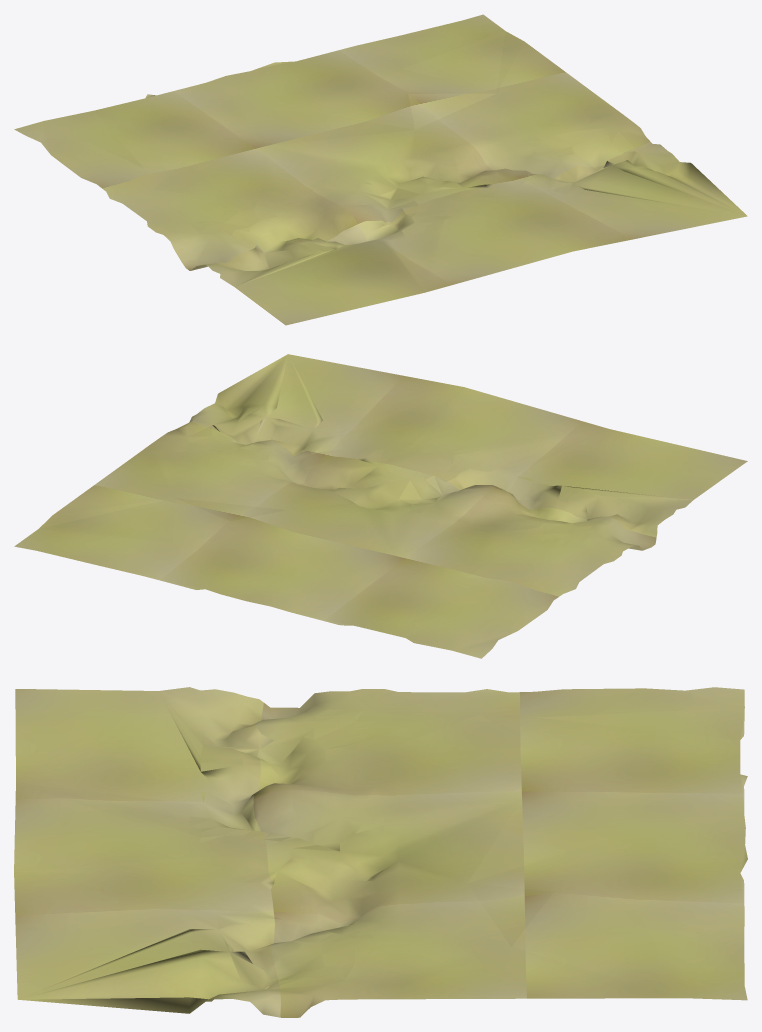
Rendered from terrain_norot.dae.
The picture shows the model from 3 angles, top to bottom: view 1: azimuth 30°, elevation 25°; view 2: azimuth 150°, elevation 25°; view 3: azimuth 270°, elevation 25°; orthographic projection. The views are drawn at different scales.
Visible parts, largest first — view 1: Terrain; view 2: Terrain; view 3: Terrain.
Boxes of the visible parts, x1,y1,x2,y2 form: Terrain: [14, 14, 747, 325]; Terrain: [14, 354, 747, 658]; Terrain: [14, 687, 747, 1017].
Bounding box in the file's own units: 100 × 99.95 × 4.33.
1 material, 1 textured.
